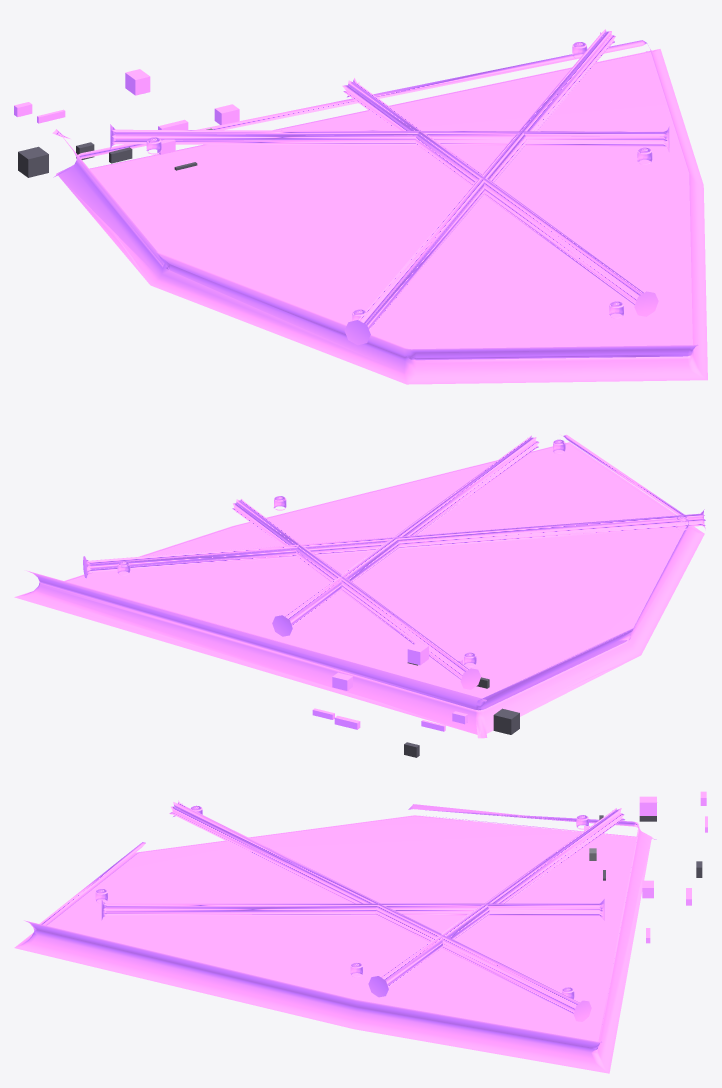
The model's file is fin_crystalline.glb.
The picture shows the model from 3 angles, top to bottom: view 1: azimuth 30°, elevation 25°; view 2: azimuth 150°, elevation 25°; view 3: azimuth 270°, elevation 25°; orthographic projection. The views are drawn at different scales.
Visible parts, largest first — view 1: Crystal_Plane, fin_crystalline_Material_Accent_Merged, fin_crystalline_Material_Accent_Merged.001, DET_mount_collar; view 2: Crystal_Plane, fin_crystalline_Material_Accent_Merged, fin_crystalline_Material_Accent_Merged.001, DET_mount_collar; view 3: Crystal_Plane, fin_crystalline_Material_Accent_Merged, fin_crystalline_Material_Accent_Merged.001.
Boxes of the visible parts, <box> form: Crystal_Plane: <box>52,40,707,384</box>; fin_crystalline_Material_Accent_Merged: <box>110,29,669,345</box>; fin_crystalline_Material_Accent_Merged.001: <box>146,42,652,320</box>; DET_mount_collar: <box>18,146,48,177</box>; Crystal_Plane: <box>14,434,704,738</box>; fin_crystalline_Material_Accent_Merged: <box>83,435,705,689</box>; fin_crystalline_Material_Accent_Merged.001: <box>117,439,688,667</box>; DET_mount_collar: <box>493,708,519,734</box>; Crystal_Plane: <box>14,802,657,1073</box>; fin_crystalline_Material_Accent_Merged: <box>101,800,624,1021</box>; fin_crystalline_Material_Accent_Merged.001: <box>95,805,588,999</box>.
Size of the model in its own units: 4.2 by 0.7 by 4.76.
